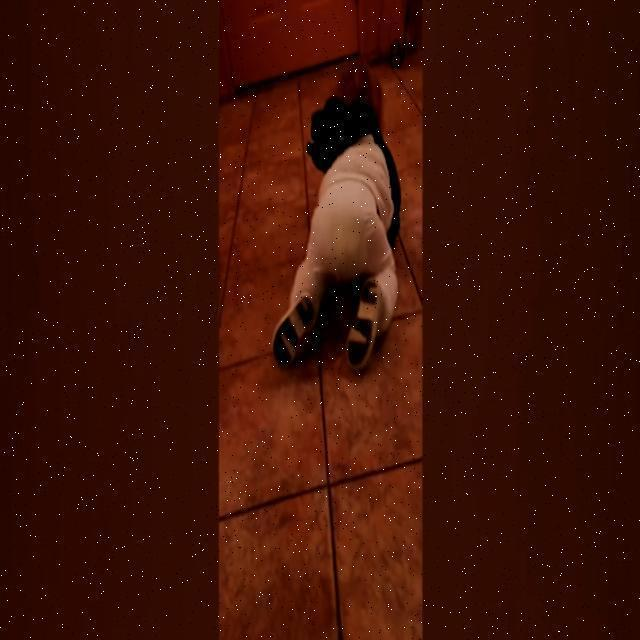child: (273, 62, 403, 375)
